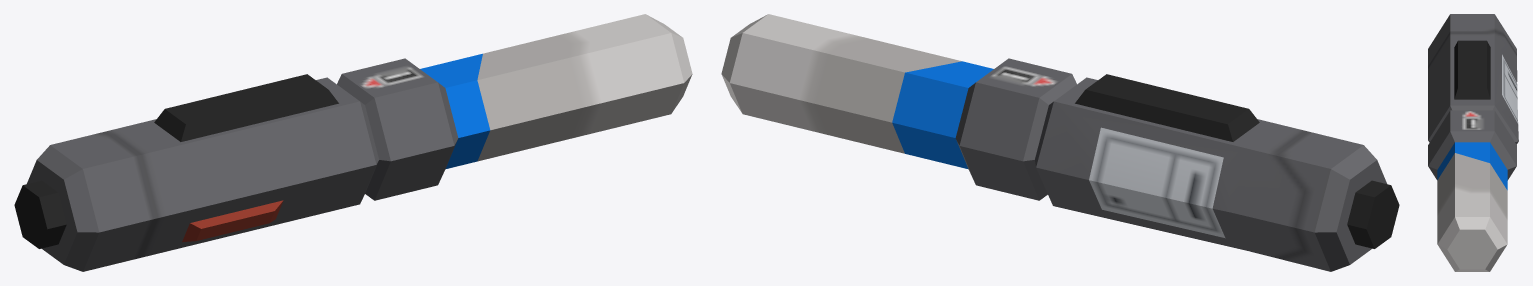
The model's file is SM_Prop_Syringe_01.fbx.
3 views of the same model, side by side, from view 1: azimuth 30°, elevation 25°; view 2: azimuth 150°, elevation 25°; view 3: azimuth 270°, elevation 25° (orthographic). The views are drawn at different scales.
Visible parts, largest first — view 1: SM_Prop_Syringe_01; view 2: SM_Prop_Syringe_01; view 3: SM_Prop_Syringe_01.
Part boxes in pixels (box(x1,y1,x2,y2)): SM_Prop_Syringe_01: box(14, 14, 692, 271); SM_Prop_Syringe_01: box(721, 14, 1399, 271); SM_Prop_Syringe_01: box(1428, 14, 1518, 271).
Bounding box in the file's own units: 19.09 × 3.34 × 3.45.
